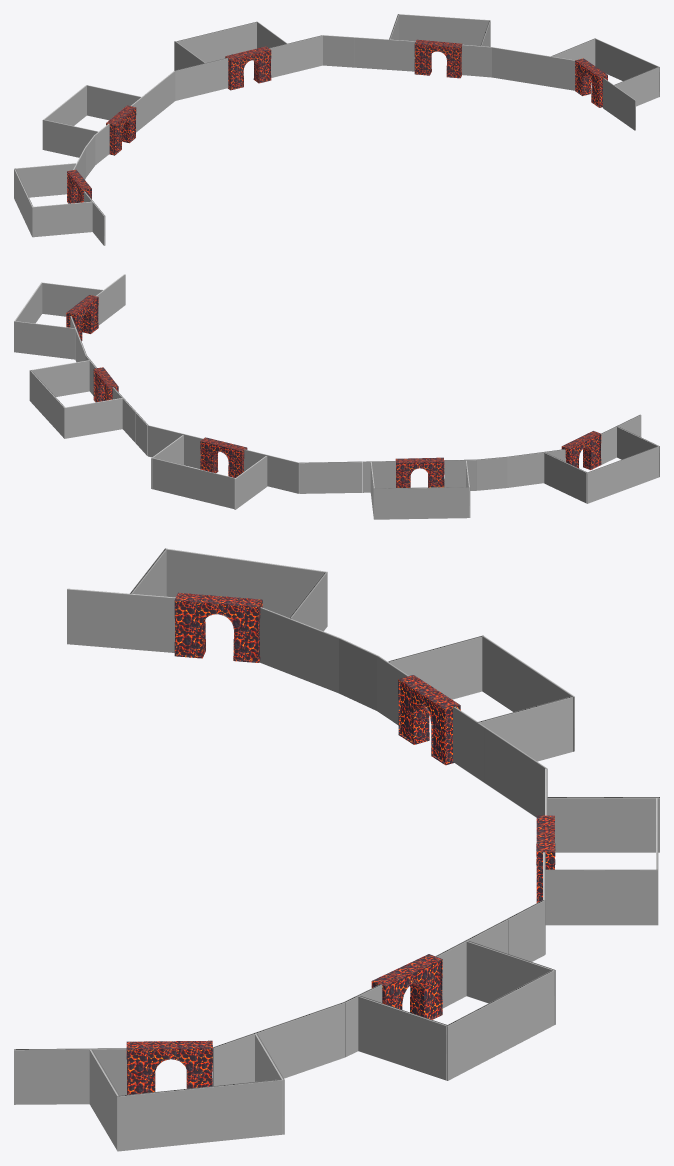
The model's file is MeshBaker (0)-mesh-mesh.fbx.
The picture shows the model from 3 angles, top to bottom: view 1: azimuth 30°, elevation 25°; view 2: azimuth 150°, elevation 25°; view 3: azimuth 270°, elevation 25°; orthographic projection. The views are drawn at different scales.
Visible parts, largest first — view 1: MeshBaker__0__mesh_mesh; view 2: MeshBaker__0__mesh_mesh; view 3: MeshBaker__0__mesh_mesh.
Part boxes in pixels (x1,y1,x2,y2): MeshBaker__0__mesh_mesh: [14, 14, 659, 245]; MeshBaker__0__mesh_mesh: [14, 274, 659, 519]; MeshBaker__0__mesh_mesh: [14, 548, 659, 1151].
Bounding box in the file's own units: 5692 × 288 × 2833.
